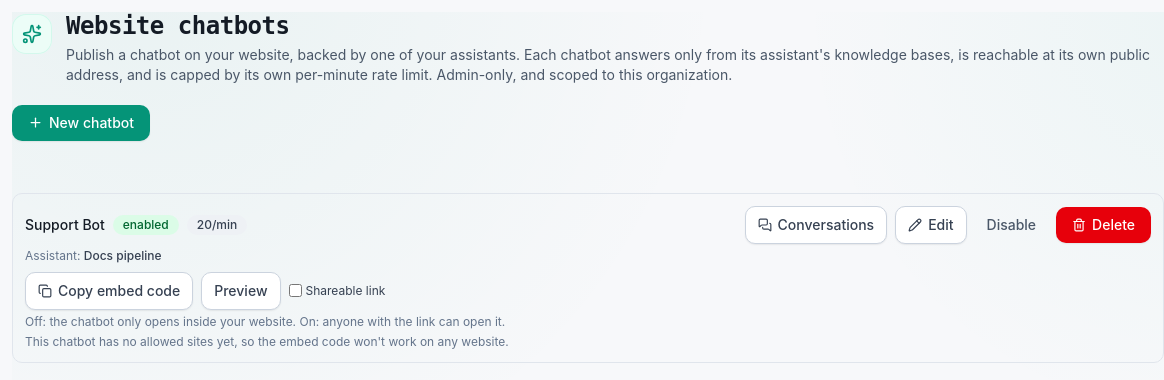
PublicChatEndpointsPage › copies the embed code built from the gateway base
Step 1. Click the button "Copy embed code" → click(109, 291), box [25,272,193,310]
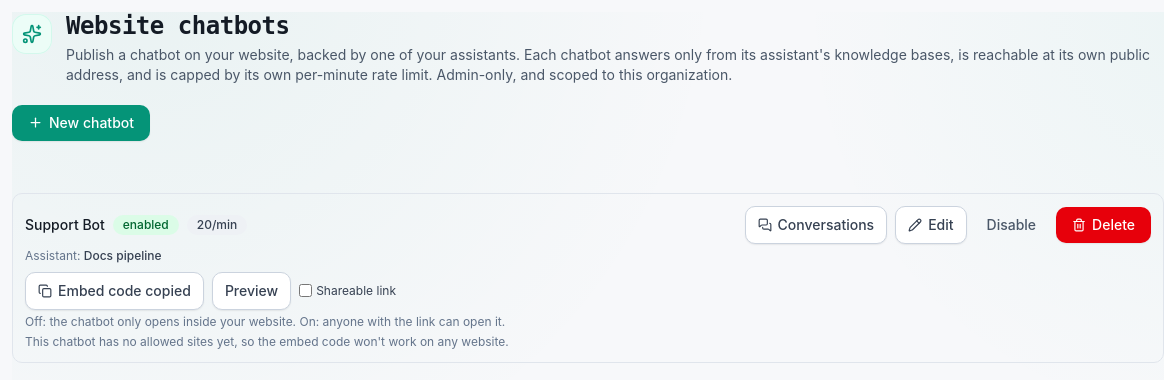
Check: the button "Embed code copied" is shown, box [25,272,204,310]
